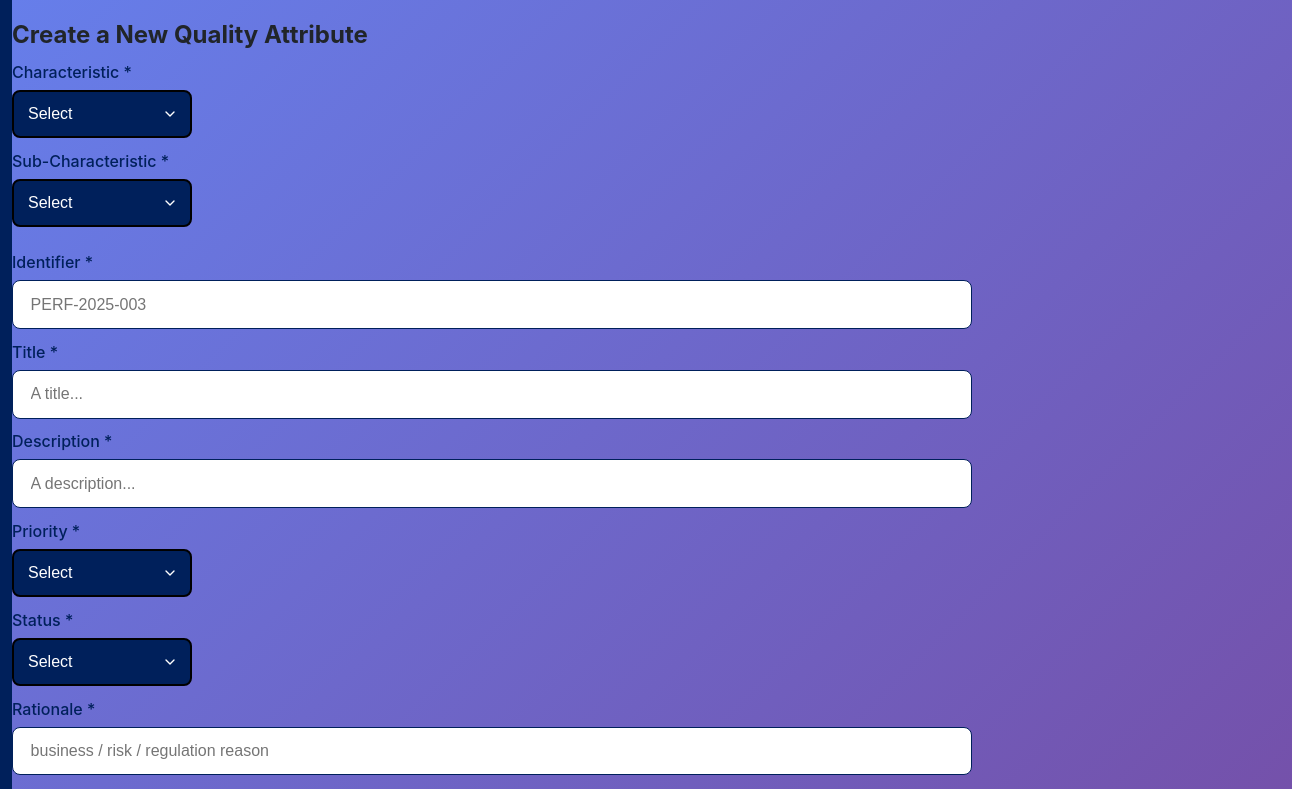
Test case: RequirementForm › resets subCategory
Select "Performance" in the dropdown labelled "Characteristic *" at (102, 114), box [12,90,192,138]
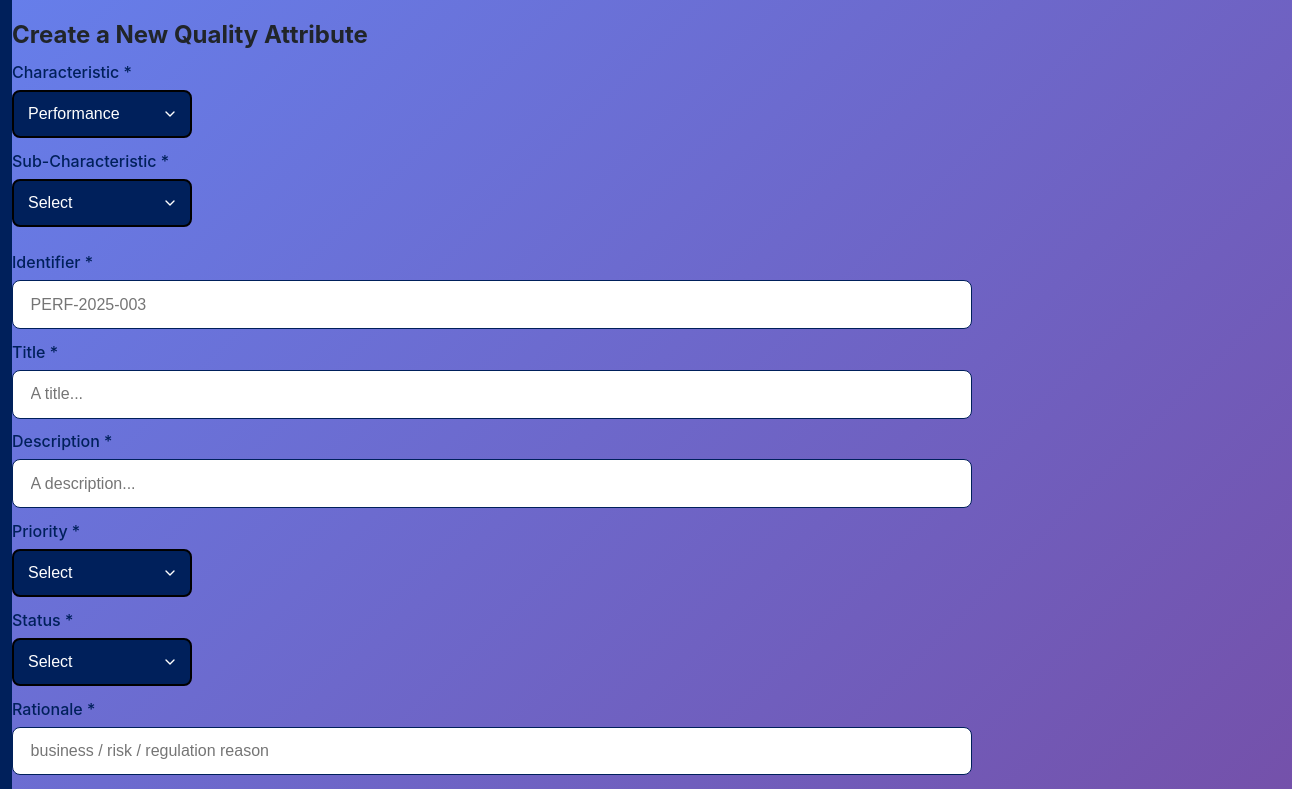
Select "Time Behaviour" in the dropdown labelled "Sub-Characteristic *" at (102, 203), box [12,179,192,227]
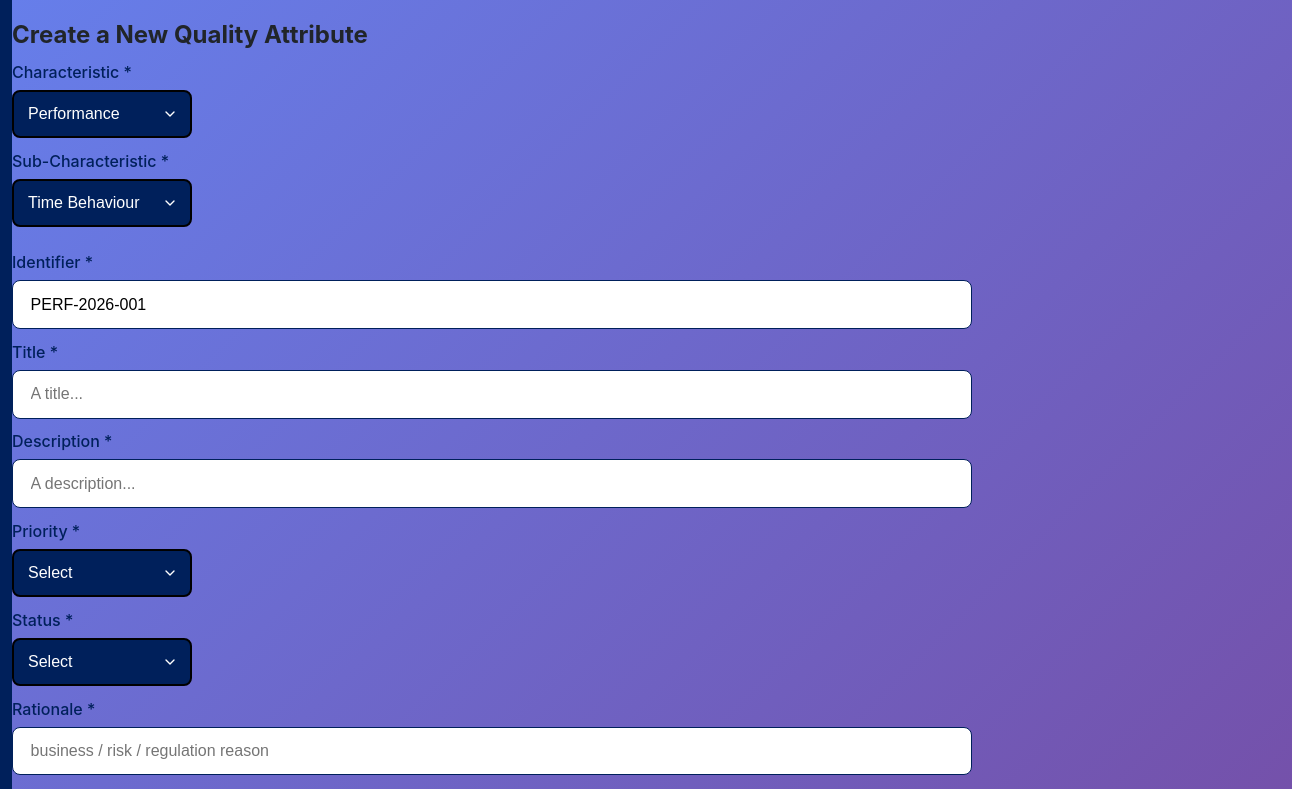
Select "Select" in the dropdown labelled "Sub-Characteristic *" at (102, 203), box [12,179,192,227]
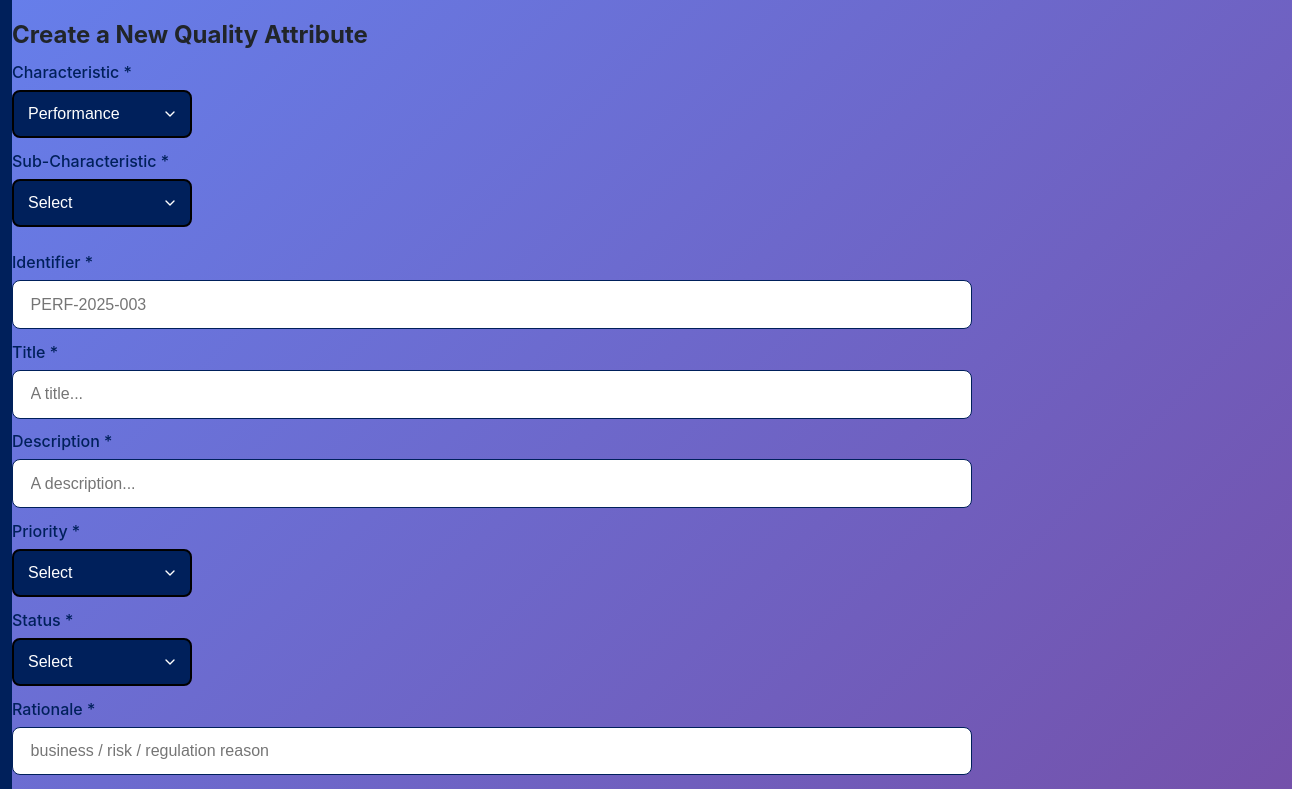
Check: the field labelled "Identifier *" is empty, box [12,280,972,329]
